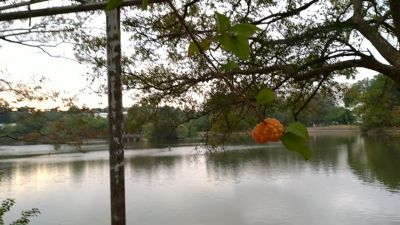eggs: (251, 118, 285, 144)
